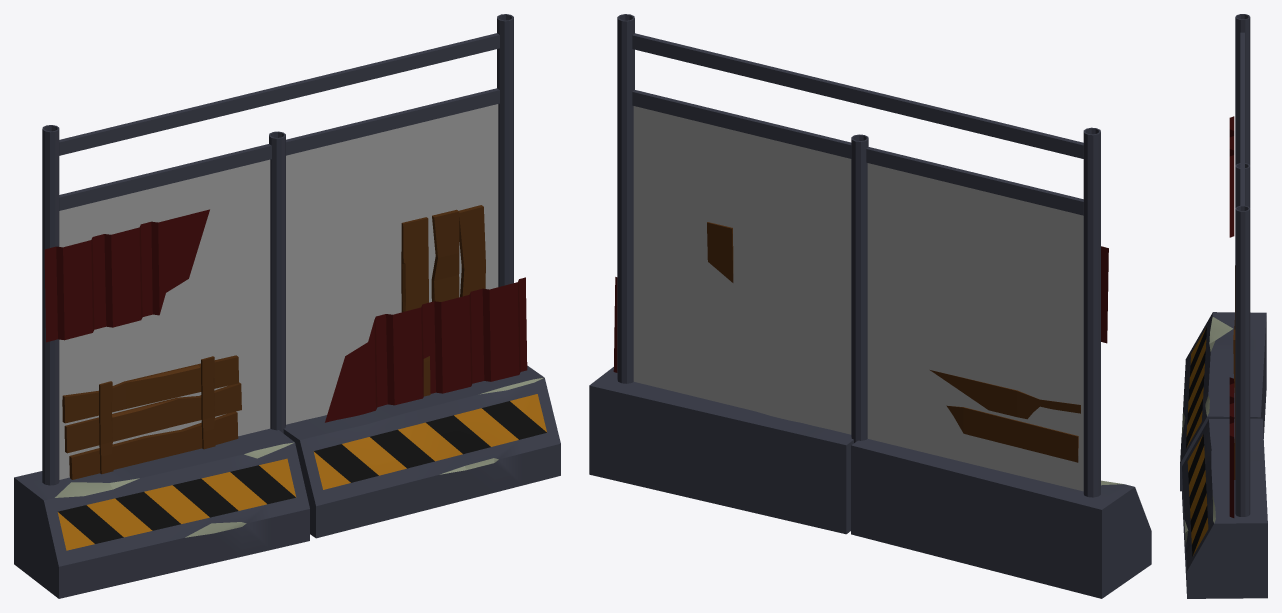
Rendered from Barrier_Fixed.obj.
3 views of the same model, side by side, from view 1: azimuth 30°, elevation 25°; view 2: azimuth 150°, elevation 25°; view 3: azimuth 270°, elevation 25° (orthographic). The views are drawn at different scales.
Visible parts, largest first — view 1: Barrier_Fixed_Cube.000; view 2: Barrier_Fixed_Cube.000; view 3: Barrier_Fixed_Cube.000.
Part boxes in pixels (bbox=[...]): Barrier_Fixed_Cube.000: bbox=[14, 14, 560, 598]; Barrier_Fixed_Cube.000: bbox=[589, 14, 1151, 598]; Barrier_Fixed_Cube.000: bbox=[1180, 14, 1267, 598].
Size of the model in its own units: 3.81 by 3.18 by 0.6666.
